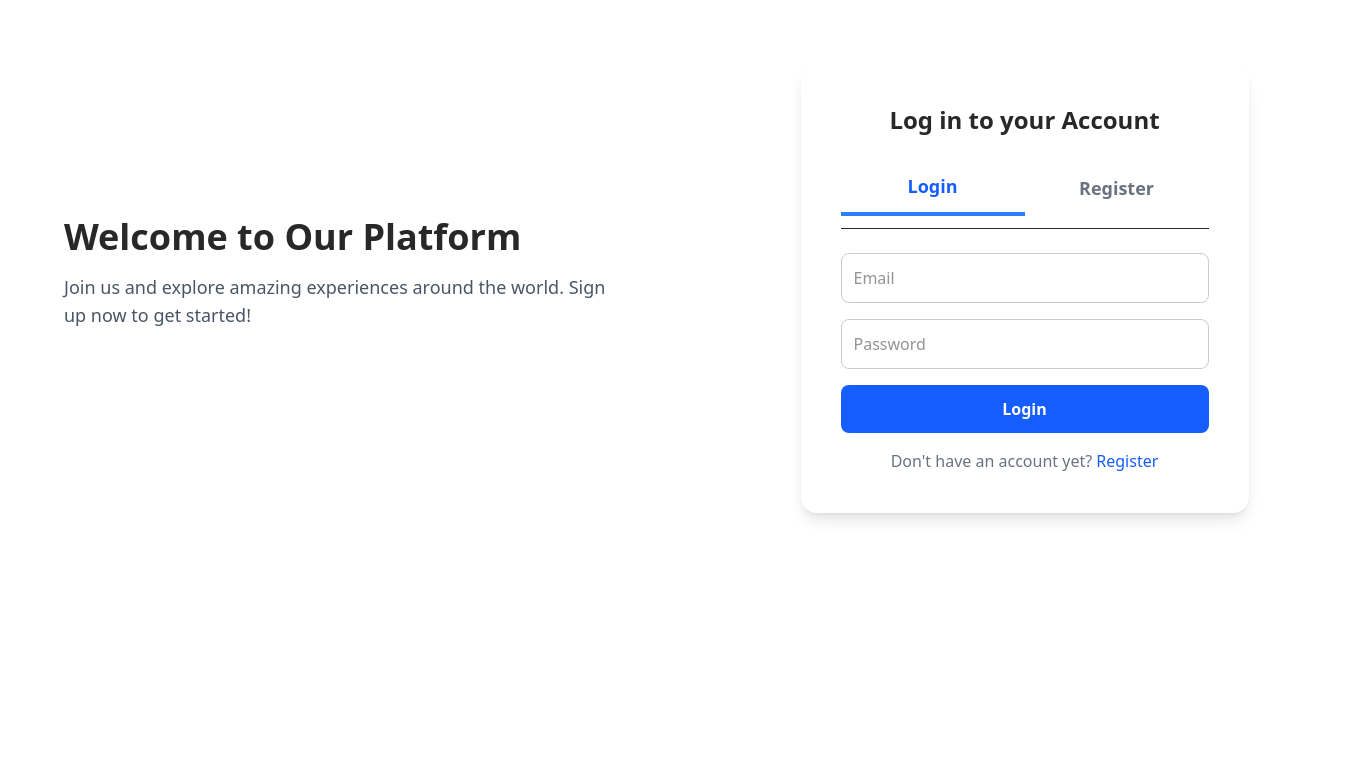
Scenario: AuthForm.vue › switches to register tab when clicking Register
Click the 1st button "Register".
click(1116, 188)  # box left=1024, top=160, right=1208, bottom=216
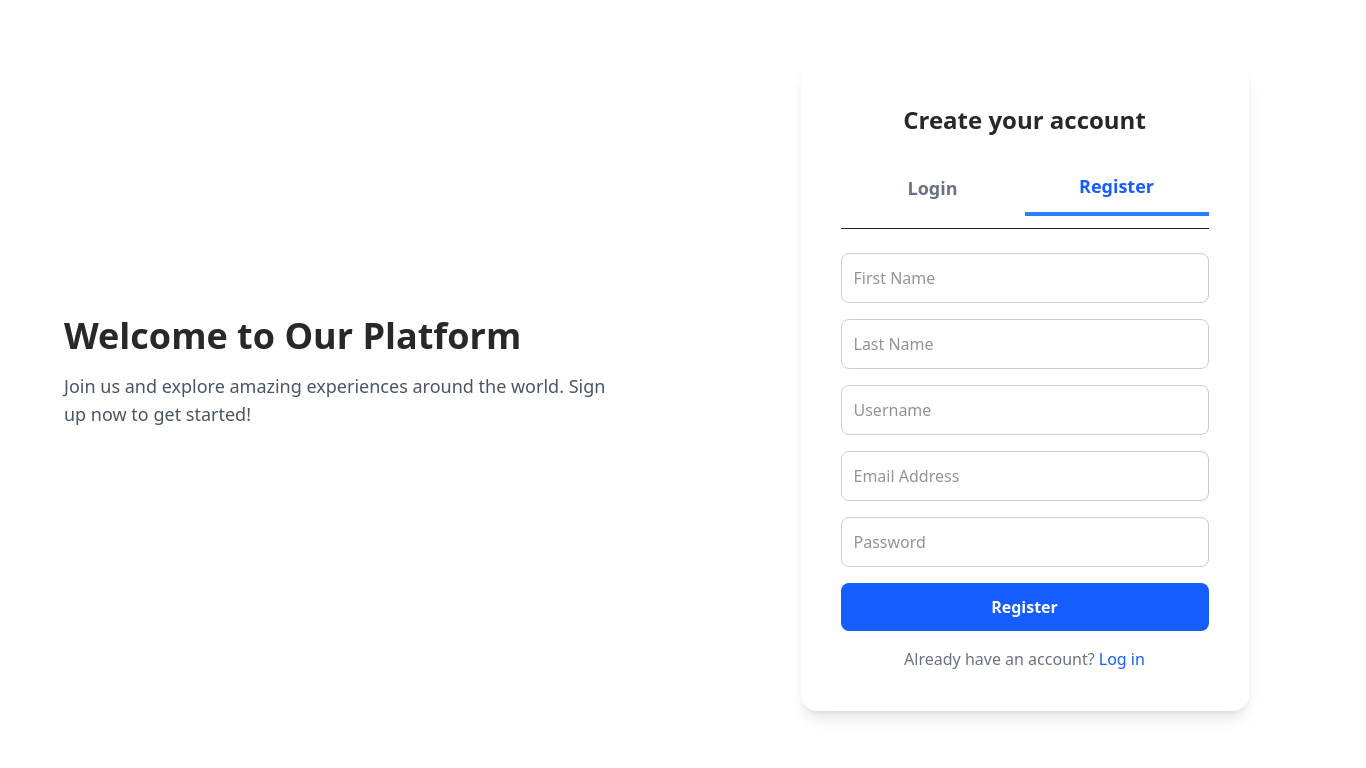
Check: the text "Create your account" is shown, box left=903, top=103, right=1146, bottom=136
